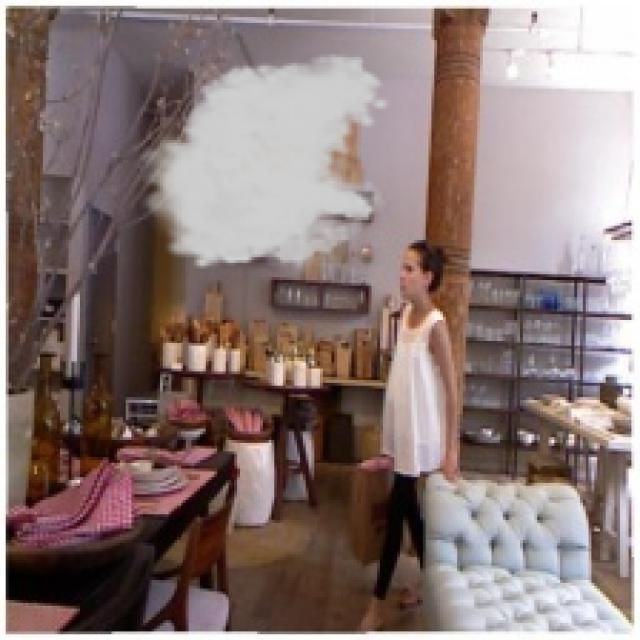smoke: (132, 51, 392, 283)
